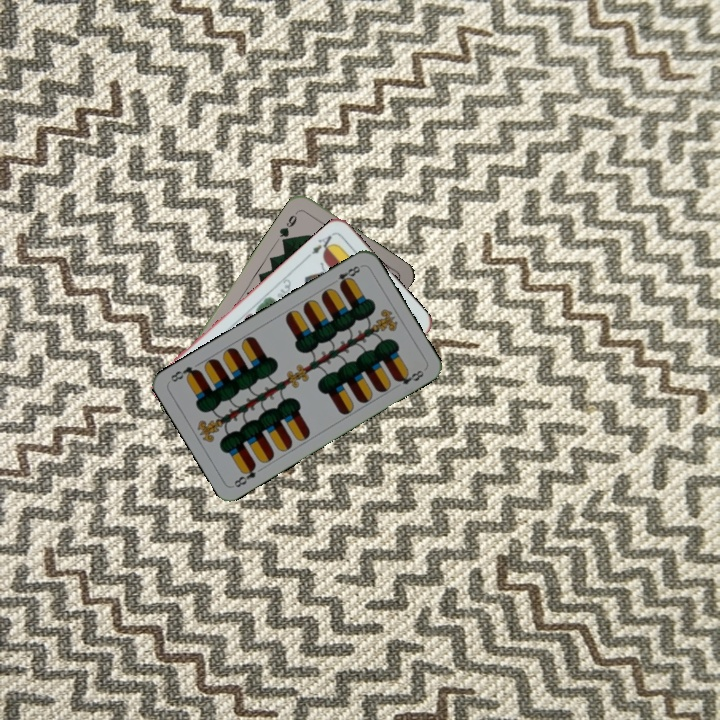E8: (327, 262, 364, 289), (230, 460, 259, 490)
EA: (303, 231, 337, 260)
G9: (275, 206, 302, 244)
